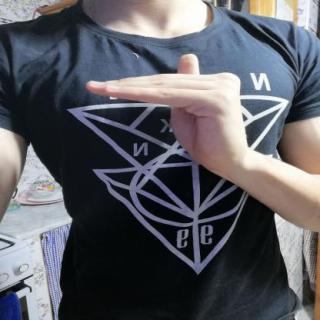KAAF: (76, 48, 270, 178)
